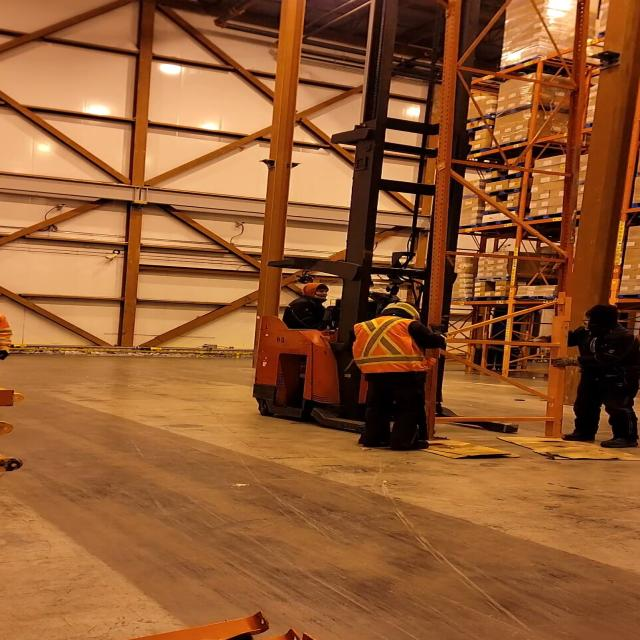forklift: (245, 123, 524, 441)
human: (338, 300, 449, 452), (526, 304, 640, 450), (268, 282, 350, 330), (0, 312, 23, 385)
objectofinterest: (415, 5, 575, 443), (494, 434, 640, 461), (387, 433, 514, 459)
